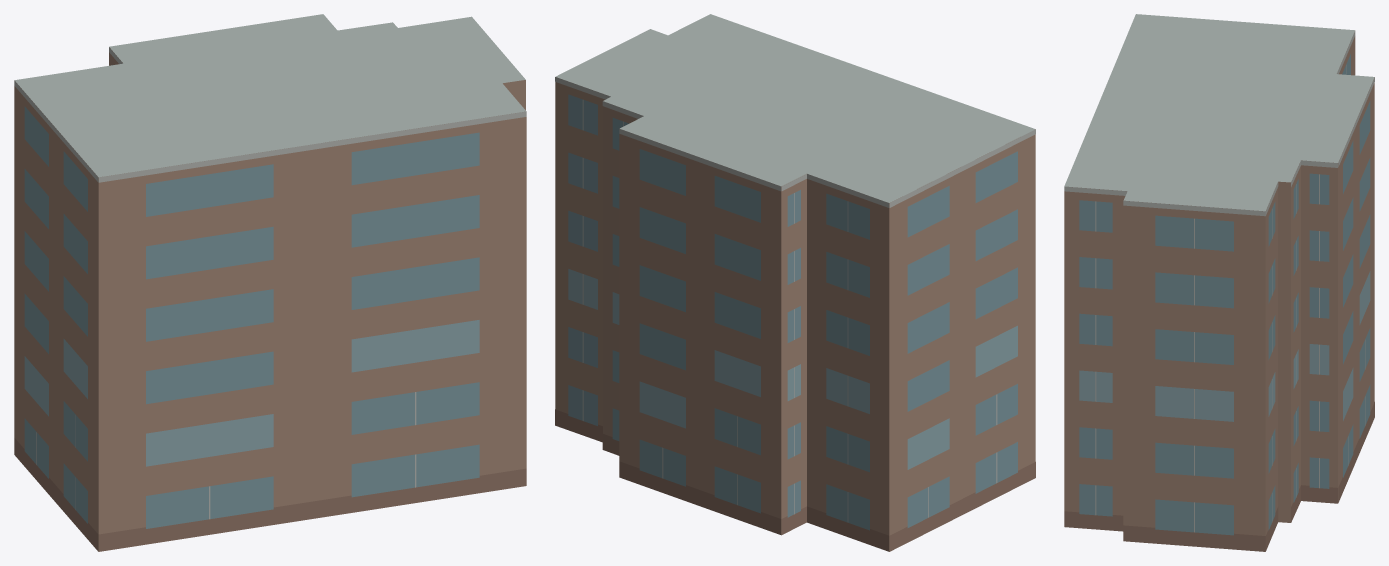
File: survey-upis-32679683.glb
The picture shows the model from 3 angles, left to right: view 1: azimuth 30°, elevation 25°; view 2: azimuth 150°, elevation 25°; view 3: azimuth 270°, elevation 25°; orthographic projection. The views are drawn at different scales.
Visible parts, largest first — view 1: survey-upis-32679683.tmp; view 2: survey-upis-32679683.tmp; view 3: survey-upis-32679683.tmp.
Boxes of the visible parts, box(x1,y1,x2,y2) form: survey-upis-32679683.tmp: box(14, 14, 526, 551); survey-upis-32679683.tmp: box(555, 14, 1035, 551); survey-upis-32679683.tmp: box(1064, 14, 1374, 551).
Size of the model in its own units: 21.01 by 16.9 by 13.98.
